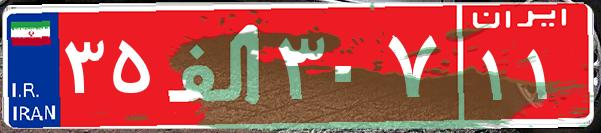0: (330, 28, 385, 110)
1: (475, 38, 525, 113), (525, 38, 570, 115)
3: (273, 28, 330, 110), (57, 26, 110, 107)
5: (110, 28, 158, 105)
7: (385, 28, 445, 110)
الف: (158, 15, 273, 115)
